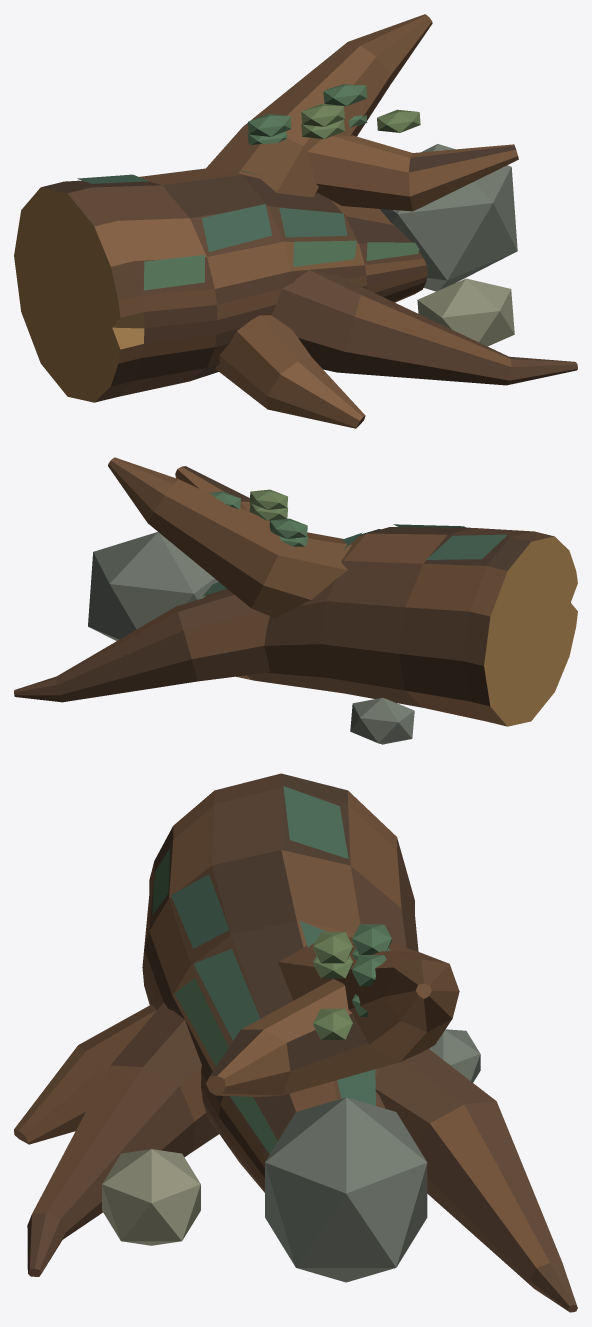
The model's file is rootfall-right.glb.
3 views of the same model, one above another, from view 1: azimuth 30°, elevation 25°; view 2: azimuth 150°, elevation 25°; view 3: azimuth 270°, elevation 25° (orthographic). The views are drawn at different scales.
Visible parts, largest first — view 1: rootfall-right; view 2: rootfall-right; view 3: rootfall-right.
Part boxes in pixels (x1=…): rootfall-right: x1=14, y1=14, x2=577, y2=428; rootfall-right: x1=14, y1=457, x2=577, y2=744; rootfall-right: x1=14, y1=773, x2=577, y2=1312.
Size of the model in its own units: 5.22 by 2.65 by 4.35.
1 material, 1 textured.
